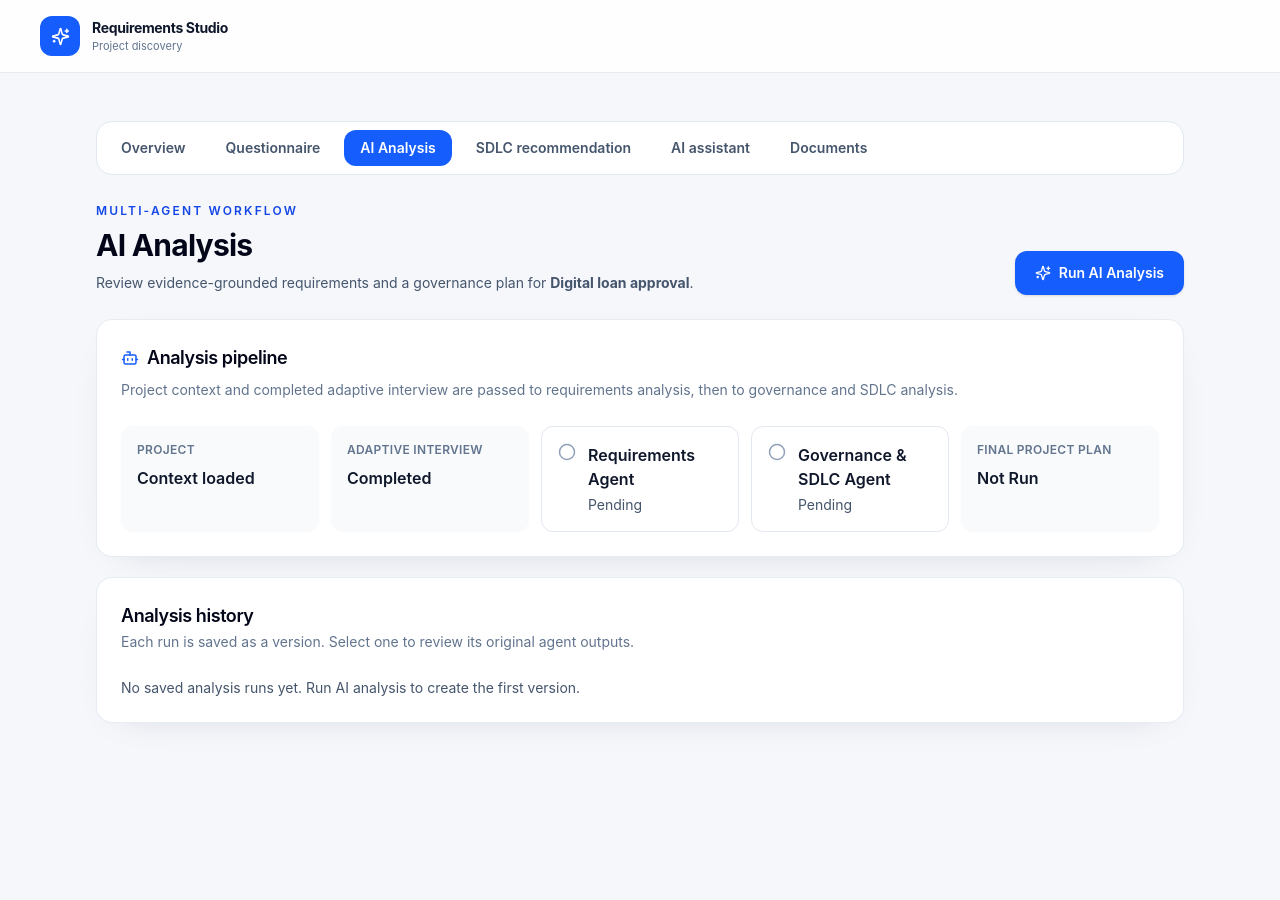
Test: multi-agent analysis page › renders governance methodology, assessment, lifecycle, testing, risks, checkpoints, and gates
The image size is (1280, 900).
Click the button "Run AI Analysis" at (1099, 273), box [1015, 251, 1184, 295]
(page scrolled)
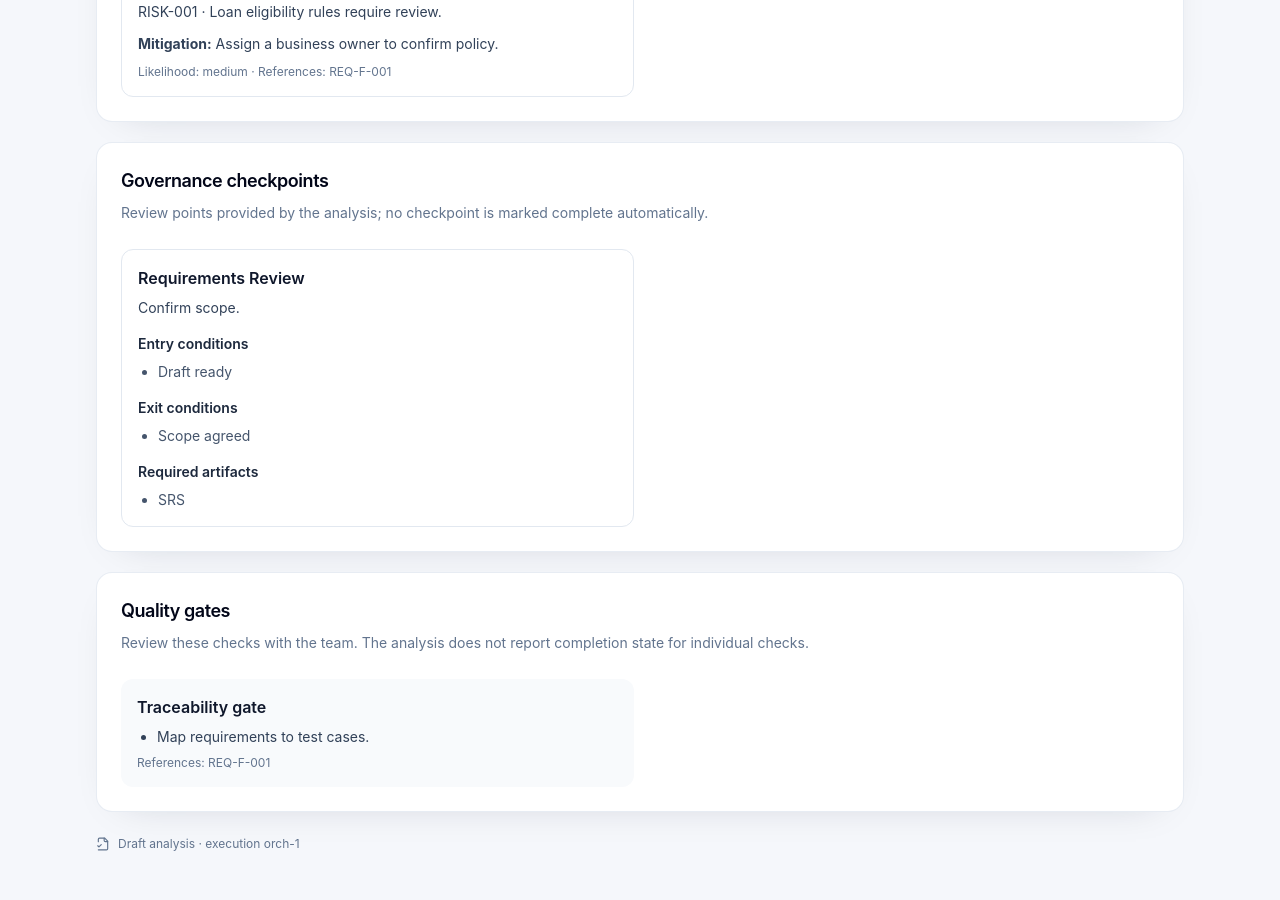
Now the heading "Requirements Review" is shown, box [138, 268, 305, 288]
Now the heading "Traceability gate" is shown, box [137, 697, 266, 717]
Now the list item "Map requirements to test cases." is shown, box [157, 728, 369, 745]
